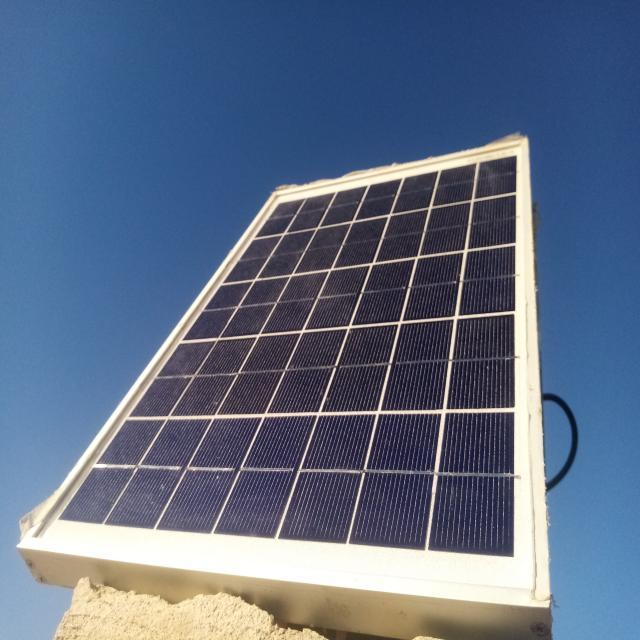no faulty: (22, 139, 548, 605)
